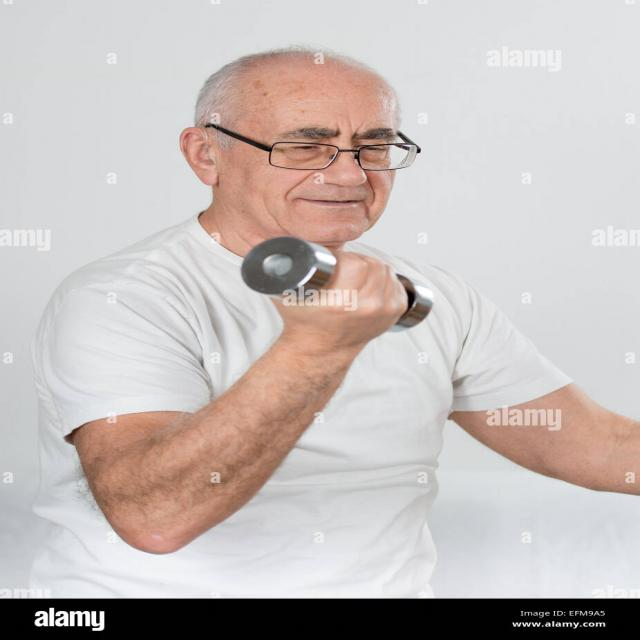Glasses: (222, 124, 425, 176)
